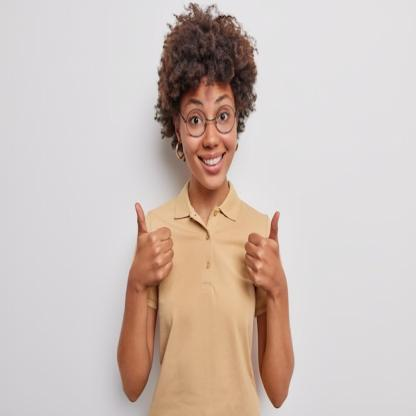thumb_up: (127, 196, 176, 289), (242, 209, 284, 292)
